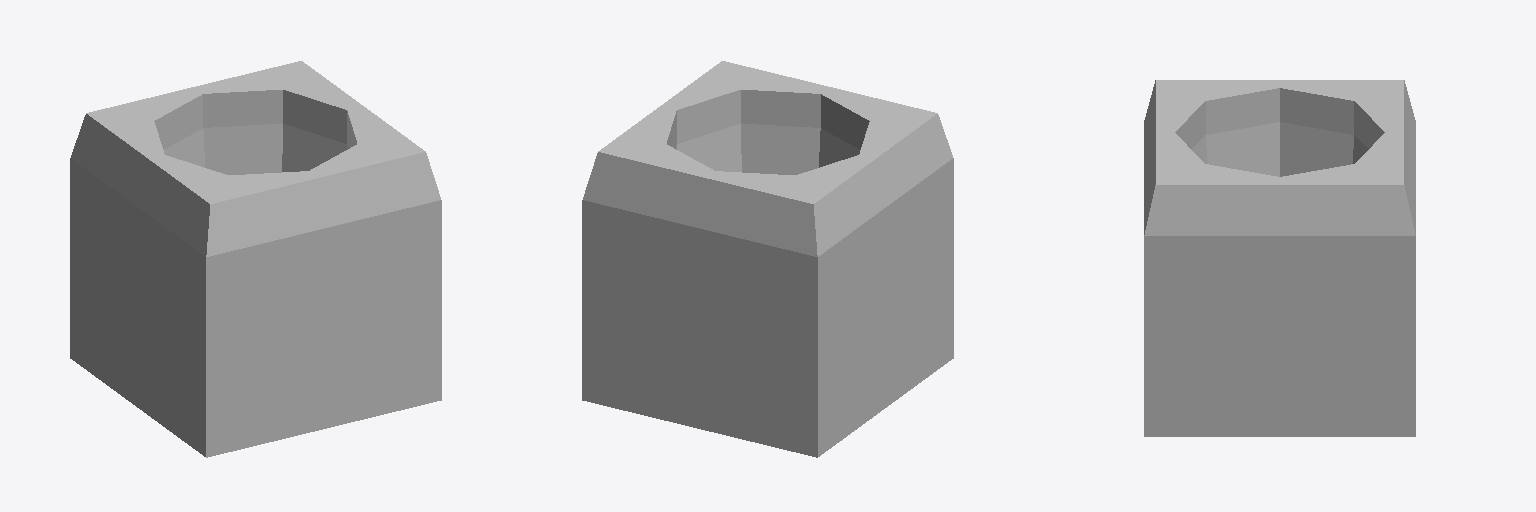
The model's file is radarDetector_mini.obj.
The picture shows the model from 3 angles: view 1: azimuth 30°, elevation 25°; view 2: azimuth 150°, elevation 25°; view 3: azimuth 270°, elevation 25°; orthographic projection.
Parts seen in each view (by area): view 1: Plane; view 2: Plane; view 3: Plane.
Boxes of the visible parts, box(x1,y1,x2,y2) form: Plane: box(70, 61, 441, 457); Plane: box(582, 61, 953, 457); Plane: box(1144, 80, 1415, 436).
Bounding box in the file's own units: 0.999 × 1 × 0.999.